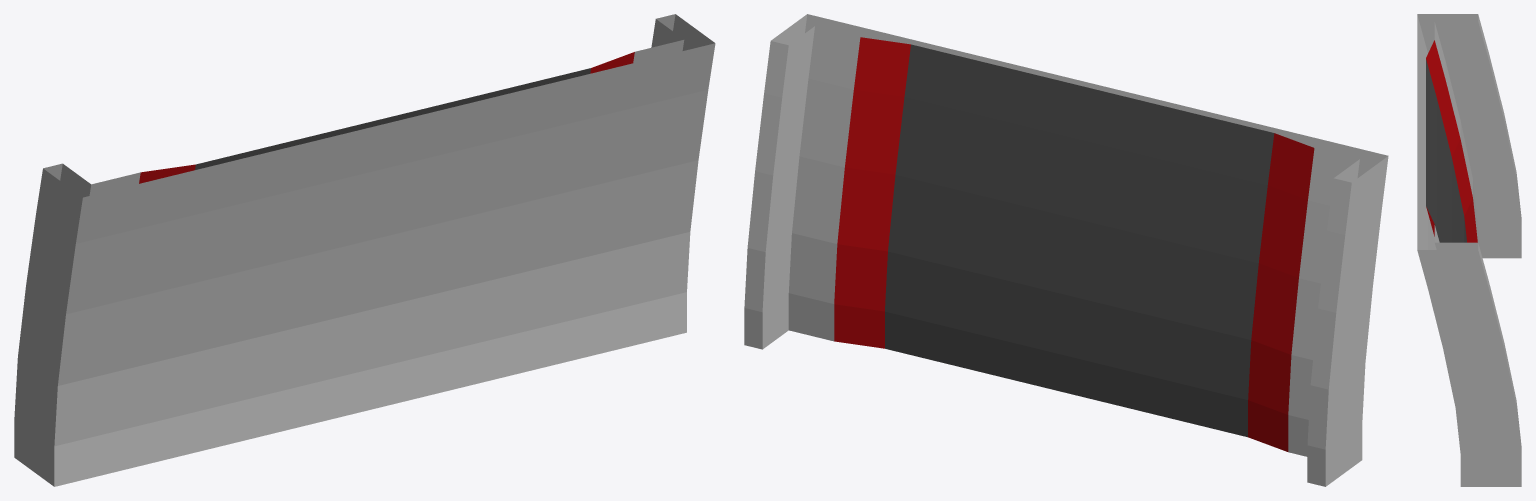
Rendered from Transition_Down_Pitch1.fbx.
3 views of the same model, side by side, from view 1: azimuth 30°, elevation 25°; view 2: azimuth 150°, elevation 25°; view 3: azimuth 270°, elevation 25° (orthographic). The views are drawn at different scales.
Visible parts, largest first — view 1: Transition_Down_Pitch1; view 2: Transition_Down_Pitch1; view 3: Transition_Down_Pitch1.
Boxes of the visible parts, <box> form: Transition_Down_Pitch1: <box>14,14,715,486</box>; Transition_Down_Pitch1: <box>744,14,1388,486</box>; Transition_Down_Pitch1: <box>1417,14,1521,486</box>.
Size of the model in its own units: 1280 by 600 by 240.
